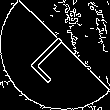L_NE: (26, 26, 84, 84)
